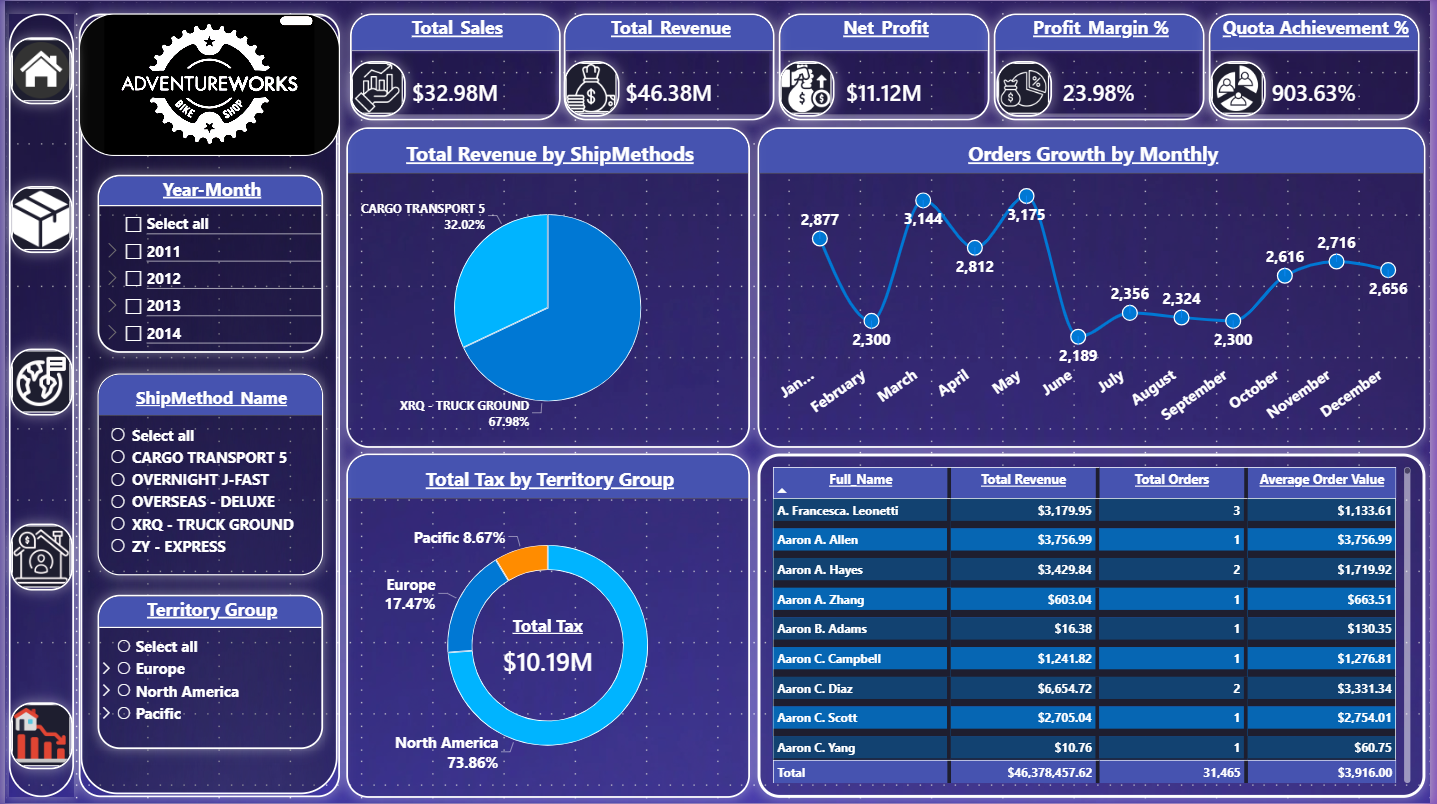

Layout of this report page (visuals, bound fields, positions):
{"tool":"powerbi","page":{"name":"Overveiw_Dashboard","canvas":[1920,1080],"ordinal":0},"visuals":[{"type":"cardVisual","fields":{"Data":["Measures_Table.Total Tax"]},"box":[3389.7,146.7,449.4,209.1],"z":0},{"type":"cardVisual","title":"Total_Sales","fields":{"Data":["Measures_Table.Total Sales"]},"box":[464,16,284,144],"z":1000},{"type":"cardVisual","title":"Net_Profit","fields":{"Data":["Measures_Table.Net Profit"]},"box":[1043.2,16,284,144],"z":2000},{"type":"cardVisual","title":"Profit_Margin %","fields":{"Data":["Measures_Table.Profit Margin %"]},"box":[1332.8,16,284,144],"z":3000},{"type":"cardVisual","title":"Quota Achievement %","fields":{"Data":["Measures_Table.Quota Achievement %"]},"box":[1622.4,16,284,144],"z":4000},{"type":"cardVisual","title":"Total_Revenue","fields":{"Data":["Measures_Table.Total Revenue"]},"box":[753.6,16,284,144],"z":5000},{"type":"lineChart","title":"Orders Growth by Monthly ","fields":{"Category":["Dim_Date.Date.Variation.Date Hierarchy.Month"],"Y":["Measures_Table.Total Orders"]},"box":[1014,170,900,432],"z":6000},{"type":"pieChart","title":"Total Revenue by ShipMethods","fields":{"Category":["Dim_ShipMethod.ShipMethod_Name"],"Y":["Measures_Table.Total Revenue"]},"box":[460,170,544,432],"z":7000},{"type":"tableEx","fields":{"Values":["Dim_Customers.Full_Name","Measures_Table.Total Revenue","Measures_Table.Total Orders","Measures_Table.Average Order Value"]},"box":[1014,610,900,464],"z":8000},{"type":"donutChart","title":"Total Tax by Territory Group","fields":{"Category":["Dim_SalesTerritory.Group"],"Y":["Measures_Table.Total Tax"]},"box":[460,610,544,464],"z":9000},{"type":"image","box":[100,16,352,1056],"z":10000},{"type":"image","box":[100,16,352,192],"z":11000},{"type":"image","box":[5,16,88,1056],"z":12000},{"type":"slicer","title":"   Year-Month","fields":{"Values":["Dim_Date.Year","Dim_Date.Month"]},"box":[125,234.7,304,240],"z":13000},{"type":"listSlicer","fields":{"Values":["Dim_ShipMethod.ShipMethod_Name"]},"box":[125,501.3,304,272],"z":14000},{"type":"listSlicer","title":"Territory Group","fields":{"Values":["Dim_SalesTerritory.Group","Dim_SalesTerritory.Territory_Name"]},"box":[125,800,304,208],"z":15000},{"type":"image","box":[7,250,85,90],"z":16000},{"type":"image","box":[7,704,85,90],"z":17000},{"type":"image","box":[7,469,85,90],"z":18000},{"type":"image","box":[7,944,85,90],"z":19000},{"type":"image","box":[7,48,85,90],"z":20000},{"type":"image","box":[464,80,75,75],"z":21000},{"type":"image","box":[752,80,75,75],"z":22000},{"type":"image","box":[1043,80,75,75],"z":23000},{"type":"image","box":[1335,80,75,75],"z":24000},{"type":"image","box":[1623,80,75,75],"z":25000}]}

Visuals, with their boxes in screenshot pixels (x1, y1, x2, y2), scaled from the page's 1920x1080 canvas onto the 1437x804 screenshot:
"Total_Sales" cardVisual: (x1=347, y1=12, x2=560, y2=119)
"Net_Profit" cardVisual: (x1=781, y1=12, x2=993, y2=119)
"Profit_Margin %" cardVisual: (x1=998, y1=12, x2=1210, y2=119)
"Quota Achievement %" cardVisual: (x1=1214, y1=12, x2=1427, y2=119)
"Total_Revenue" cardVisual: (x1=564, y1=12, x2=777, y2=119)
"Orders Growth by Monthly " lineChart: (x1=759, y1=127, x2=1433, y2=448)
"Total Revenue by ShipMethods" pieChart: (x1=344, y1=127, x2=751, y2=448)
tableEx - Dim_Customers.Full_Name x Measures_Table.Total Revenue: (x1=759, y1=454, x2=1433, y2=800)
"Total Tax by Territory Group" donutChart: (x1=344, y1=454, x2=751, y2=800)
image: (x1=75, y1=12, x2=338, y2=798)
image: (x1=75, y1=12, x2=338, y2=155)
image: (x1=4, y1=12, x2=70, y2=798)
"   Year-Month" slicer: (x1=94, y1=175, x2=321, y2=353)
listSlicer - Dim_ShipMethod.ShipMethod_Name: (x1=94, y1=373, x2=321, y2=576)
"Territory Group" listSlicer: (x1=94, y1=596, x2=321, y2=750)
image: (x1=5, y1=186, x2=69, y2=253)
image: (x1=5, y1=524, x2=69, y2=591)
image: (x1=5, y1=349, x2=69, y2=416)
image: (x1=5, y1=703, x2=69, y2=770)
image: (x1=5, y1=36, x2=69, y2=103)
image: (x1=347, y1=60, x2=403, y2=115)
image: (x1=563, y1=60, x2=619, y2=115)
image: (x1=781, y1=60, x2=837, y2=115)
image: (x1=999, y1=60, x2=1055, y2=115)
image: (x1=1215, y1=60, x2=1271, y2=115)
